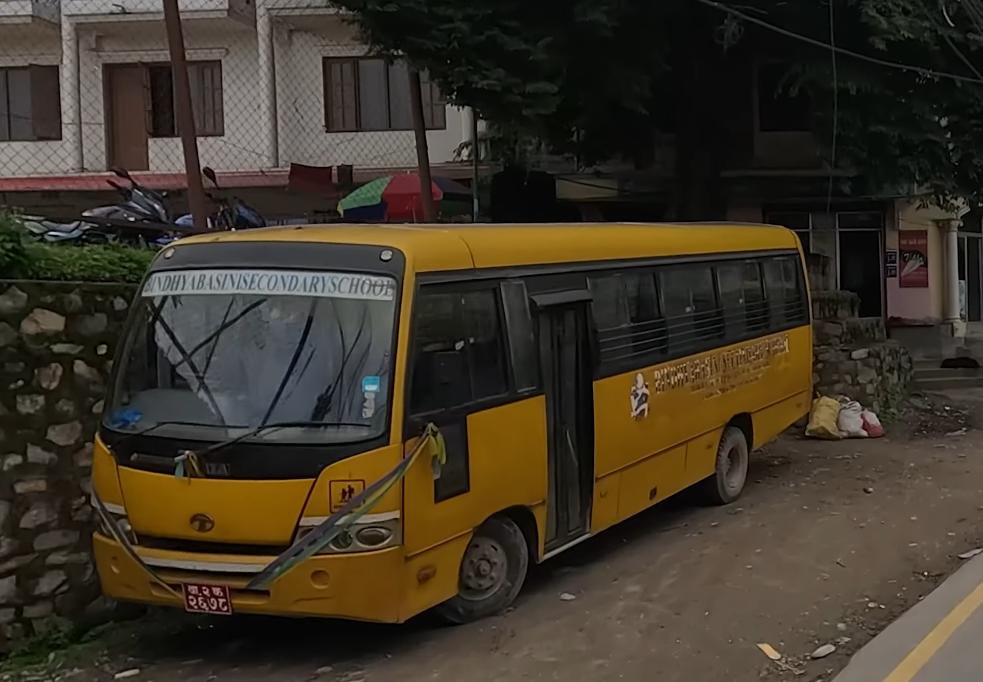school_bus: (82, 213, 823, 629)
